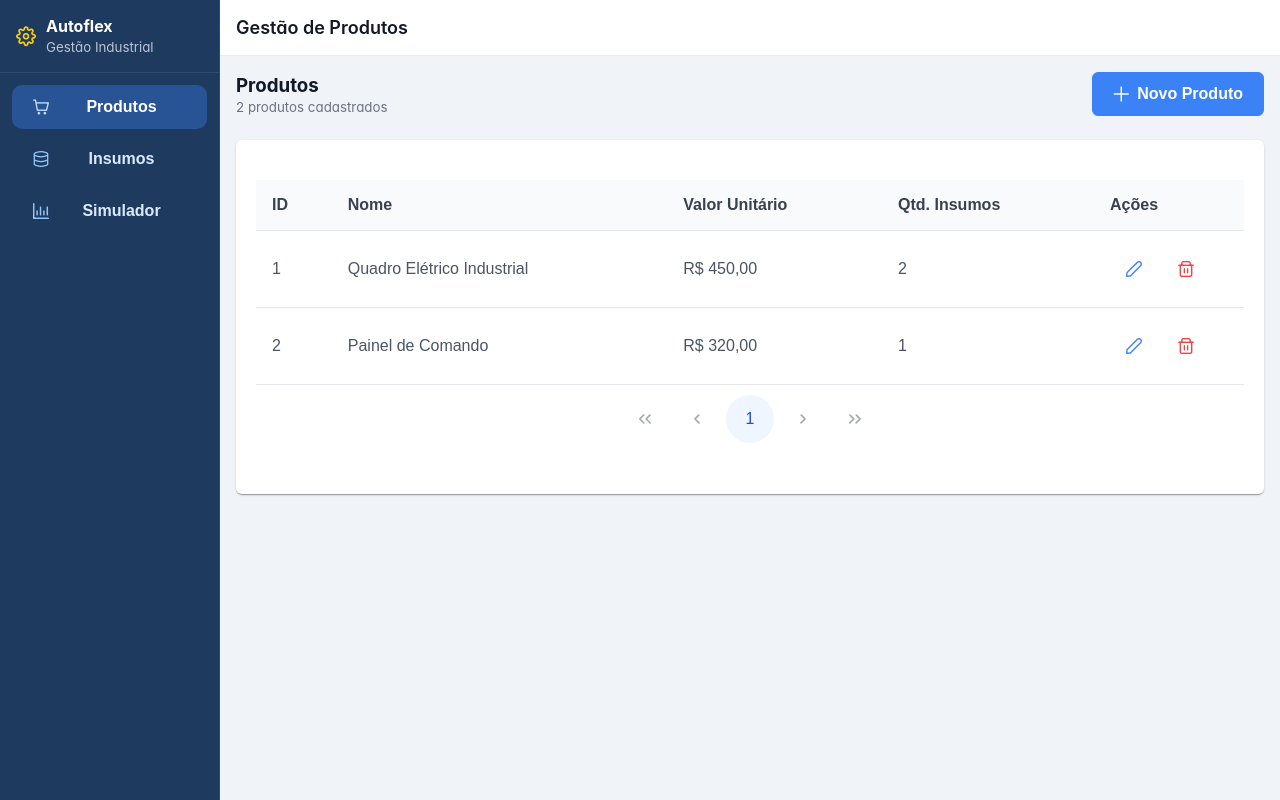
Test: Products › creates a product
The width and height of the screenshot is (1280, 800).
Click the button with test id "add-product-button".
click(1178, 94)  # box [1092,72,1264,116]
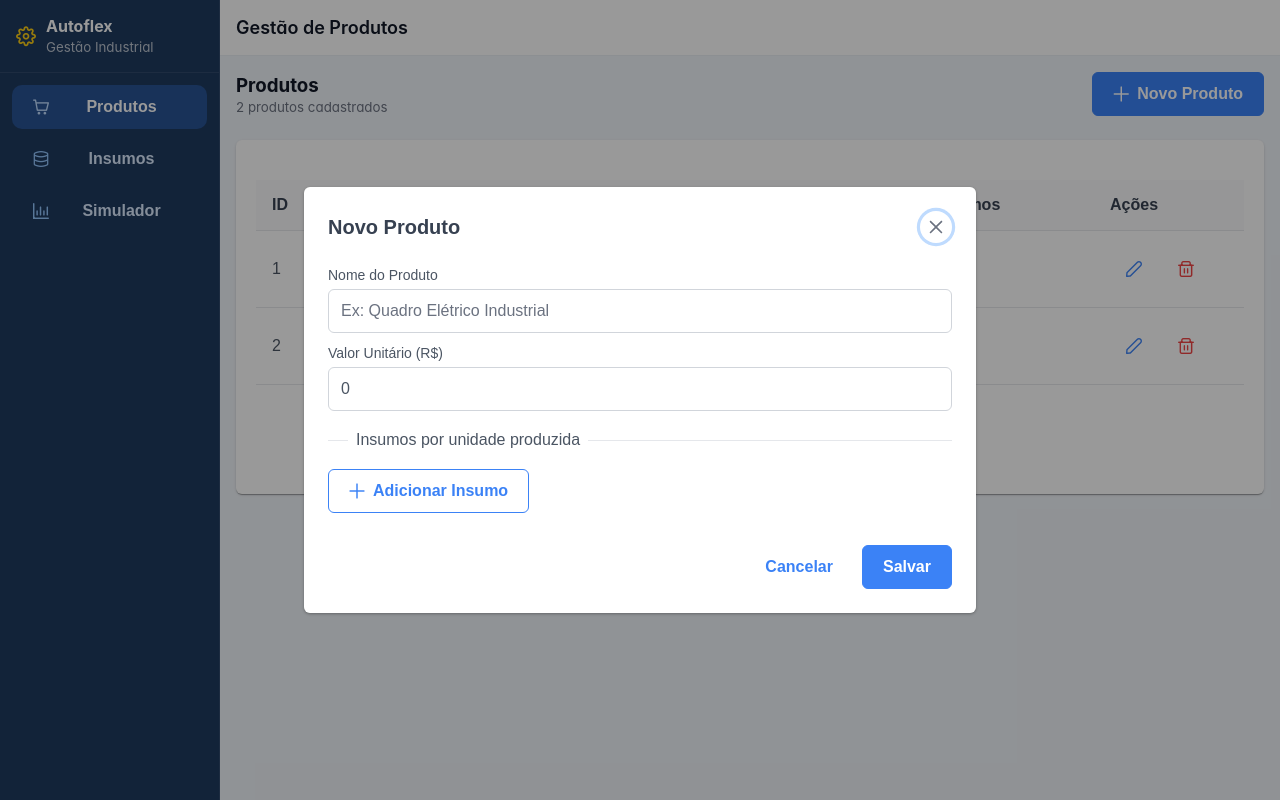
Type "[E2E] Produto Cypress" into the field with test id "name-input".
click(640, 311); type("[E2E] Produto Cypress")  # box [328,289,952,333]
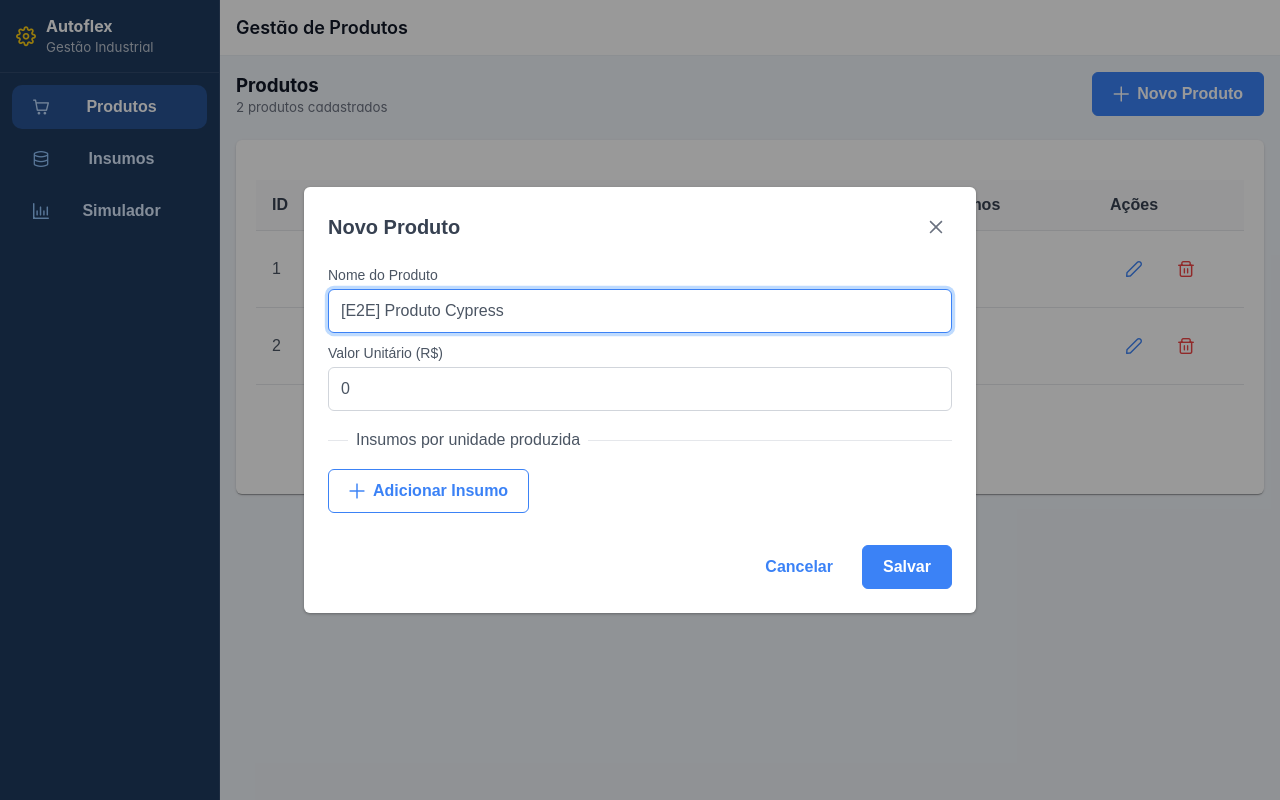
Replace the text in the number field with test id "value-input" with "250" at (640, 389), box [328,367,952,411]
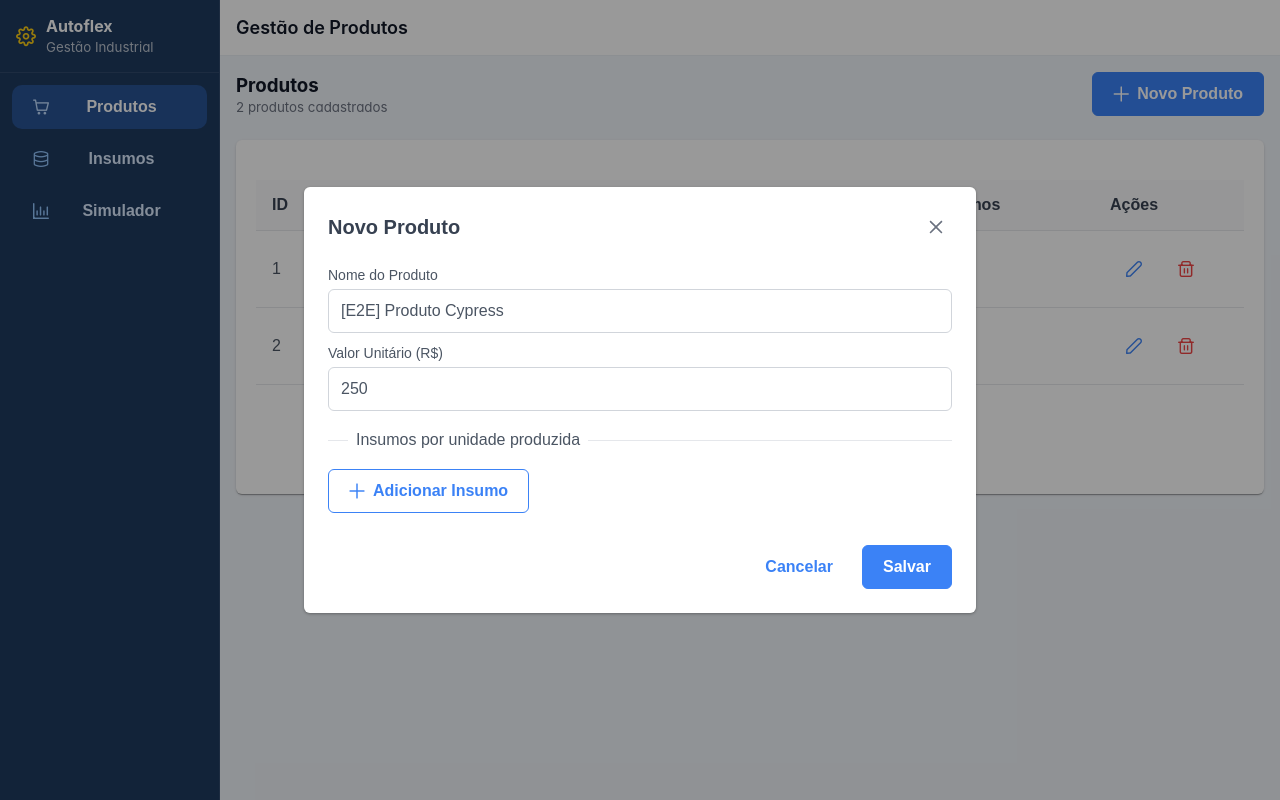
Click the button with test id "modal-ok-button".
click(907, 567)  # box [862,545,952,589]
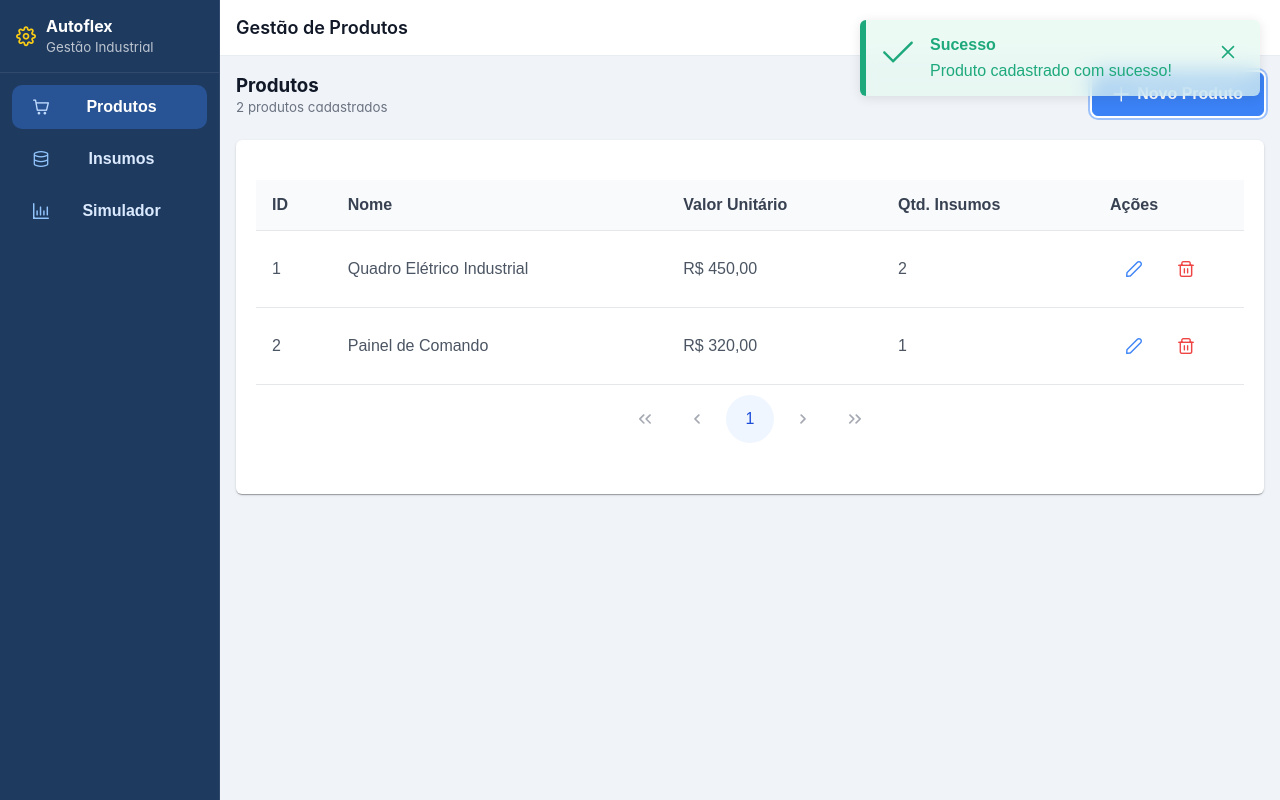
Result: the text "Produto cadastrado com sucesso" is shown at [930,62,1172,79]
